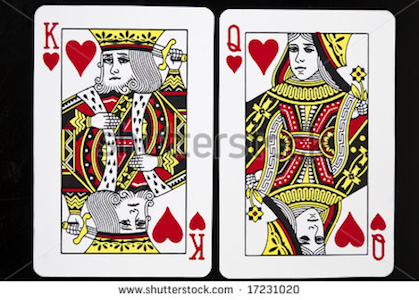KingOfHearts: (28, 3, 214, 278)
QueenOfHearts: (218, 8, 401, 279)
